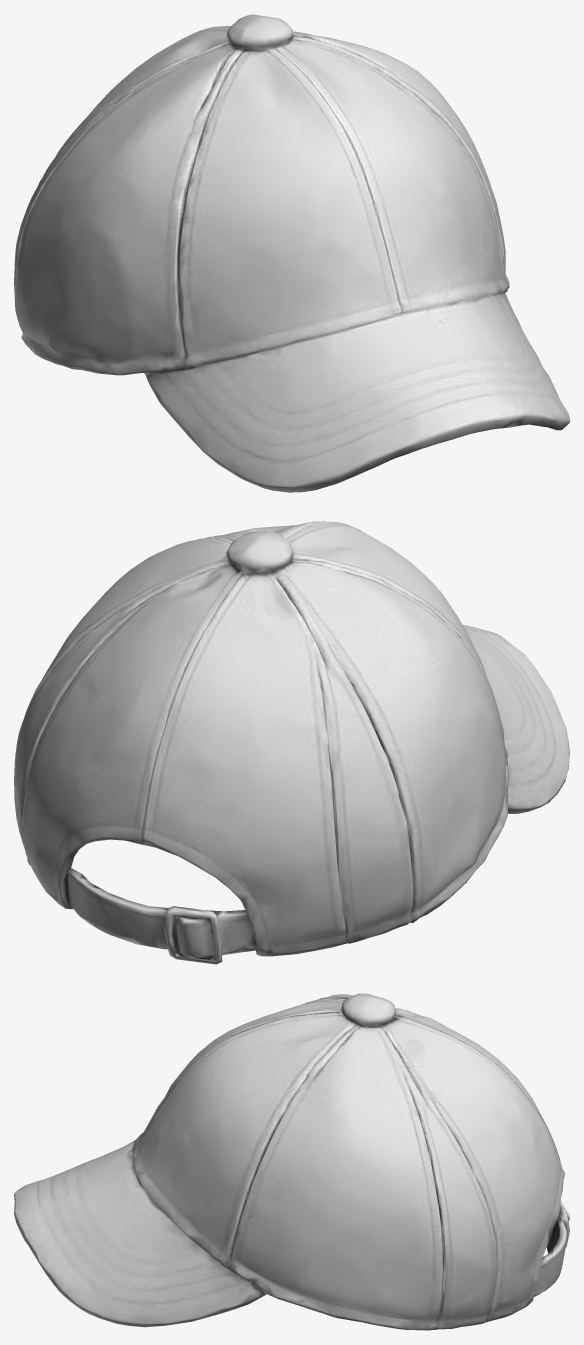
File: hat-cap.glb
The picture shows the model from 3 angles, top to bottom: view 1: azimuth 30°, elevation 25°; view 2: azimuth 150°, elevation 25°; view 3: azimuth 270°, elevation 25°; orthographic projection. The views are drawn at different scales.
Parts seen in each view (by area): view 1: tripo_node_243c3ab7-8aa4-42ee-9d4f-07ec4773c35f; view 2: tripo_node_243c3ab7-8aa4-42ee-9d4f-07ec4773c35f; view 3: tripo_node_243c3ab7-8aa4-42ee-9d4f-07ec4773c35f.
Boxes of the visible parts, x1,y1,x2,y2 form: tripo_node_243c3ab7-8aa4-42ee-9d4f-07ec4773c35f: (14, 14, 569, 492); tripo_node_243c3ab7-8aa4-42ee-9d4f-07ec4773c35f: (14, 521, 569, 964); tripo_node_243c3ab7-8aa4-42ee-9d4f-07ec4773c35f: (14, 993, 569, 1330).
Bounding box in the file's own units: 0.208 × 0.1572 × 0.2893.
Materials: 1 (1 with a texture image).
